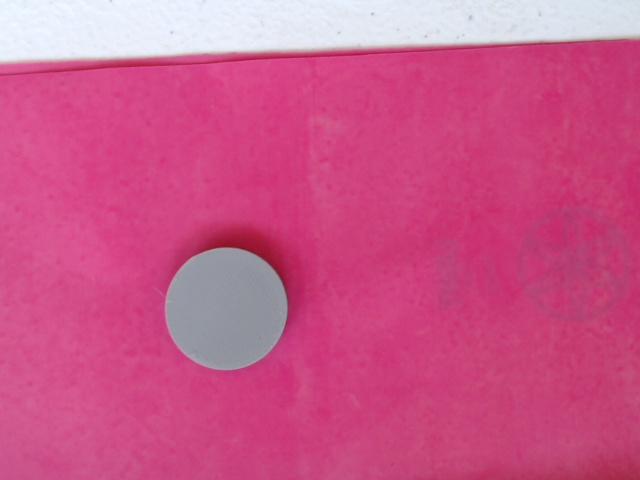NonDefective: (161, 244, 296, 375)
